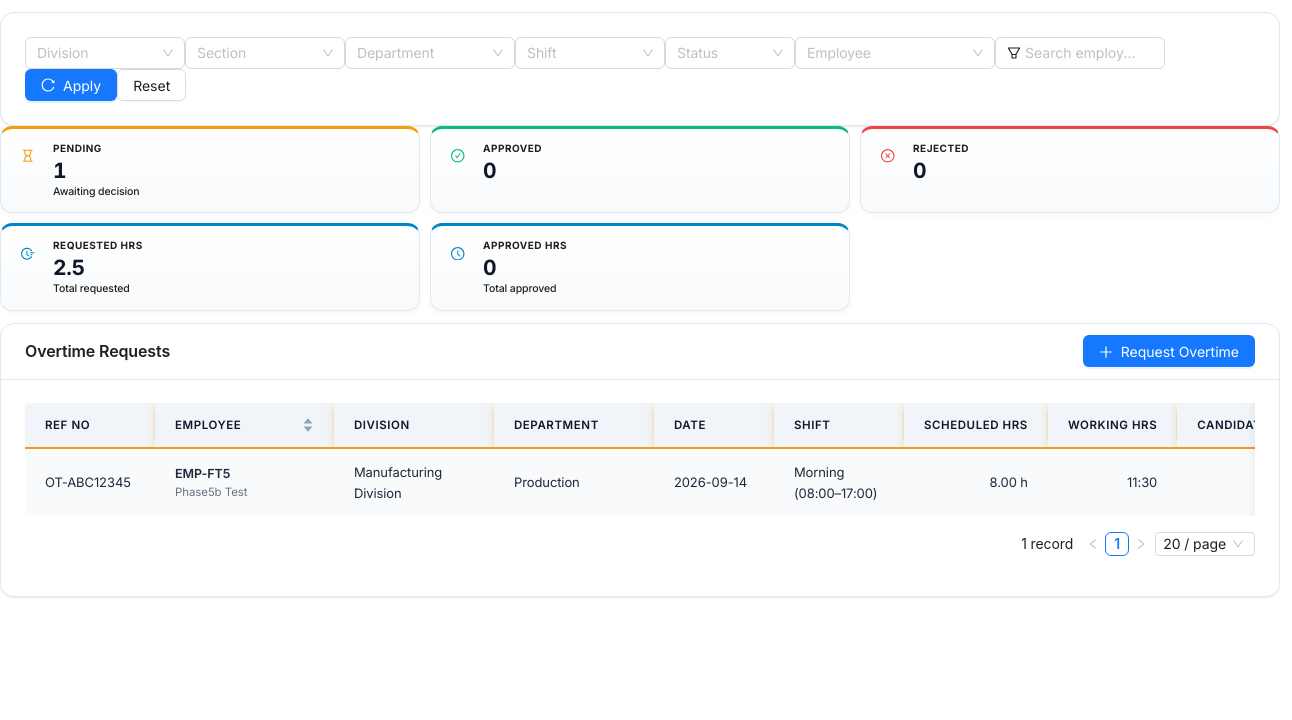
Scenario: OvertimeApproval page › shows all overtime statuses in the status filter dropdown
Press the mouse on the element showing "Status" at (730, 53), box x1=665 y1=37 x2=795 y2=69
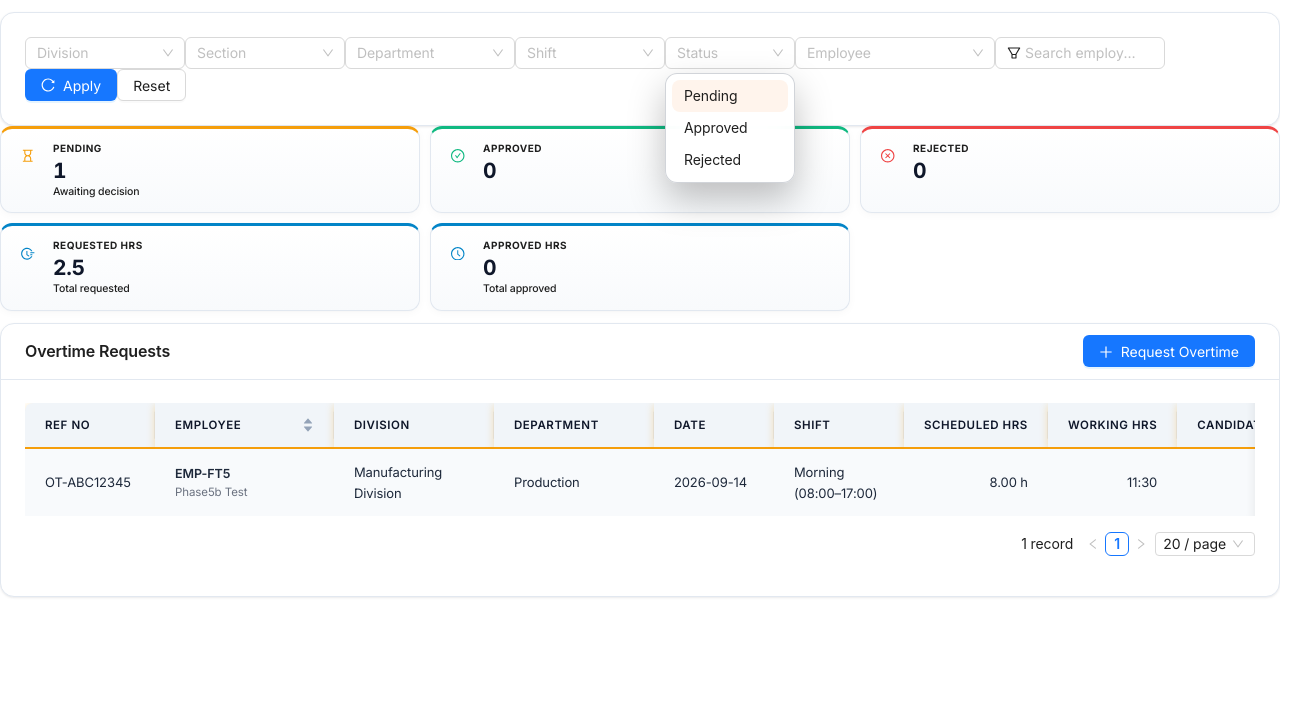
Now the 1st text "Pending" is shown, box x1=684 y1=87 x2=738 y2=104
Now the 1st text "Approved" is shown, box x1=684 y1=119 x2=748 y2=136
Now the 2nd text "Rejected" is shown, box x1=684 y1=151 x2=741 y2=168
